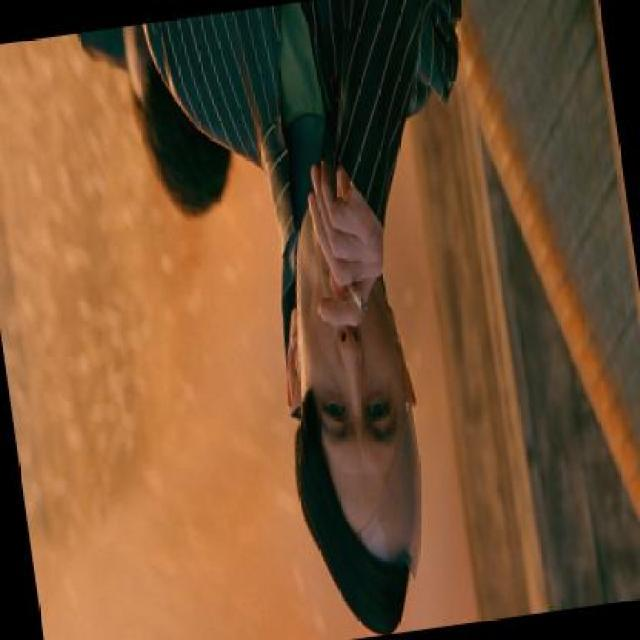smoke: (342, 276, 367, 318)
